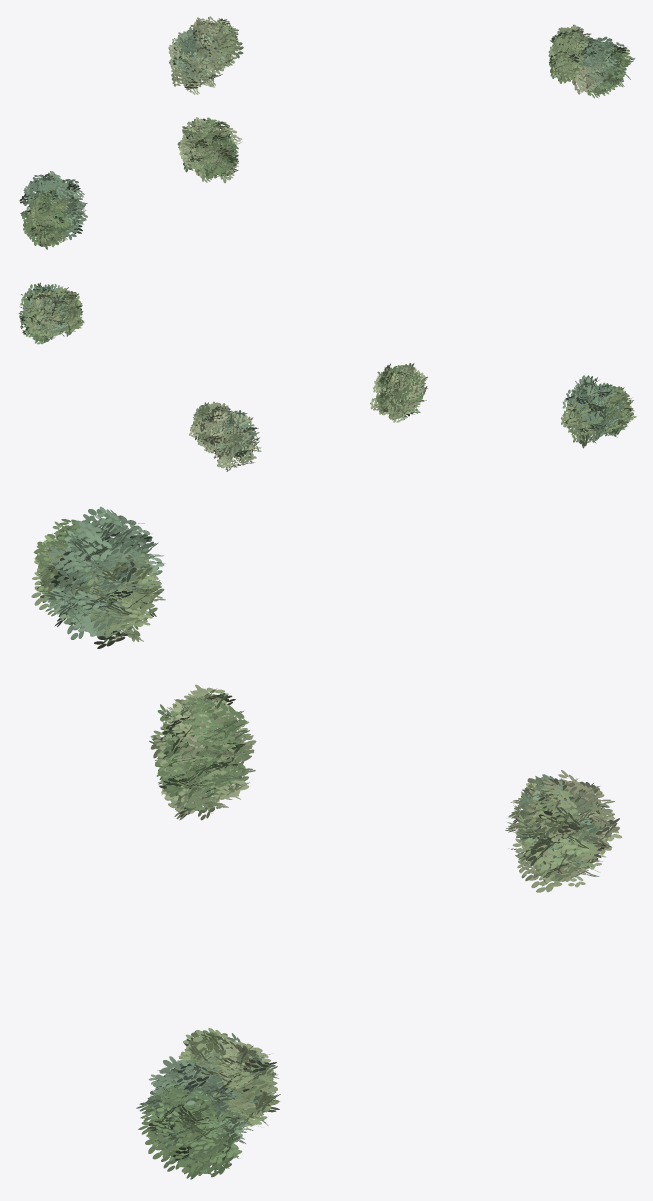
File: campus-tree-4_-4-near.glb
3 renders of one model, top to bottom at view 1: azimuth 30°, elevation 25°; view 2: azimuth 150°, elevation 25°; view 3: azimuth 270°, elevation 25°, orthographic. The views are drawn at different scales.
Visible parts, largest first — view 1: Campus leaf canopy; view 2: Campus leaf canopy; view 3: Campus leaf canopy.
Boxes of the visible parts, x1,y1,x2,y2 form: Campus leaf canopy: [19, 16, 635, 249]; Campus leaf canopy: [18, 282, 636, 471]; Campus leaf canopy: [31, 506, 622, 1179].
Size of the model in its own units: 51.43 by 6.67 by 22.43.
Materials: 1 (1 with a texture image).
